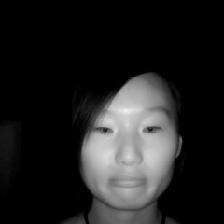sad: (57, 55, 186, 213)
